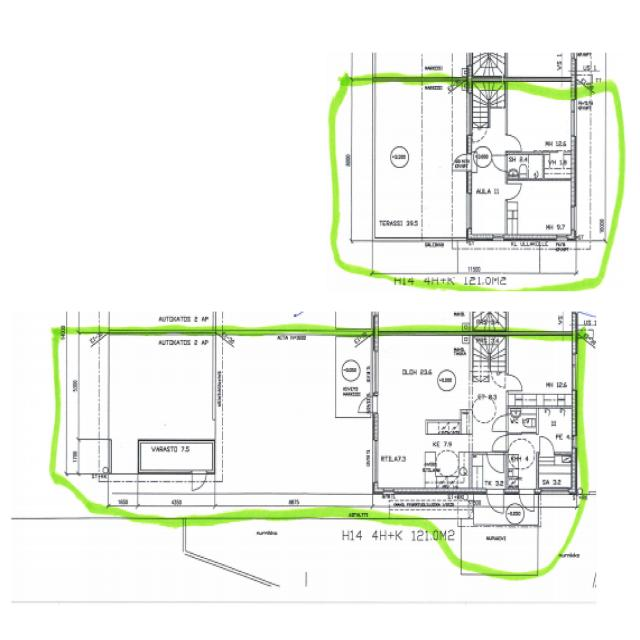door: (486, 487, 504, 515), (487, 452, 504, 474), (519, 488, 534, 512), (451, 154, 472, 171), (358, 396, 378, 412), (192, 470, 206, 491), (491, 415, 508, 432), (540, 435, 554, 455), (492, 436, 508, 452), (506, 374, 522, 390), (505, 135, 521, 151), (505, 184, 521, 200), (492, 155, 508, 171)
